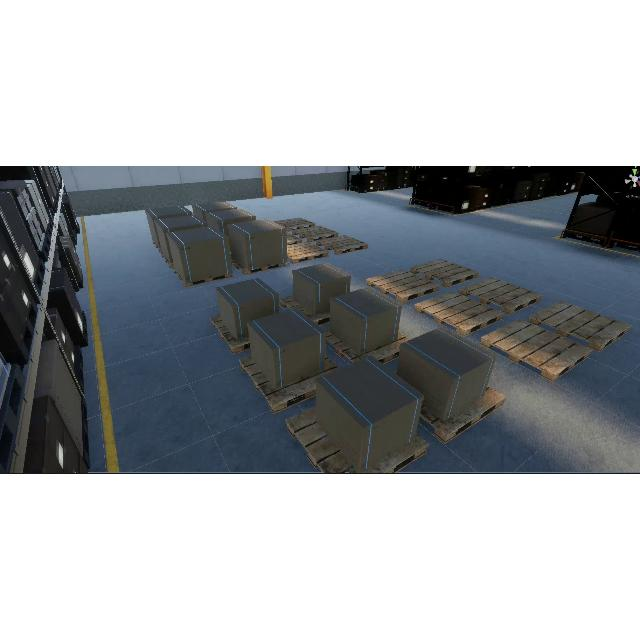wooden_pallet: (284, 404, 433, 474), (479, 317, 595, 382), (236, 356, 345, 417), (419, 381, 506, 446), (528, 300, 633, 352), (414, 290, 505, 337), (458, 275, 544, 315), (365, 268, 441, 301), (410, 259, 480, 288), (209, 316, 252, 359), (173, 267, 236, 287), (317, 237, 371, 257), (231, 258, 287, 277), (286, 242, 328, 263), (290, 225, 339, 243), (273, 217, 315, 232), (286, 233, 303, 245)
